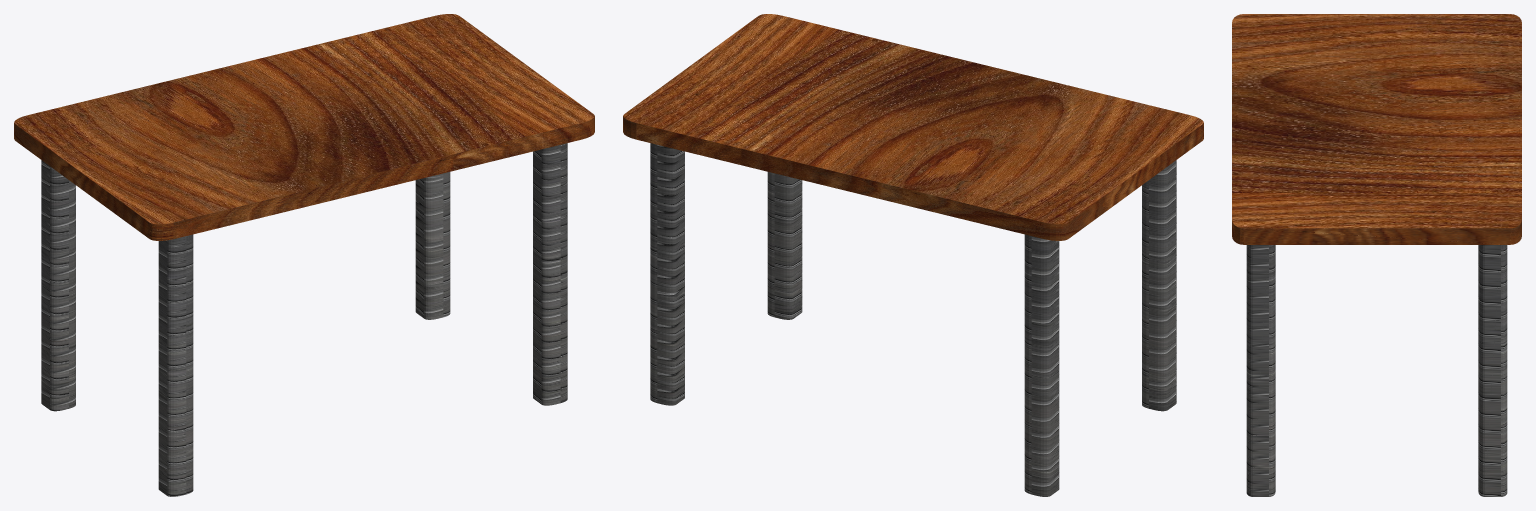
File: default_table.glb
The picture shows the model from 3 angles, left to right: view 1: azimuth 30°, elevation 25°; view 2: azimuth 150°, elevation 25°; view 3: azimuth 270°, elevation 25°; orthographic projection.
Parts seen in each view (by area): view 1: Cube, Cube.004, Cube.002, Cube.003, Cube.001; view 2: Cube, Cube.003, Cube.001, Cube.004, Cube.002; view 3: Cube, Cube.001, Cube.002.
Boxes of the visible parts, x1,y1,x2,y2 form: Cube: (14,14,594,240); Cube.004: (158,234,193,496); Cube.002: (533,143,567,405); Cube.003: (41,160,75,411); Cube.001: (415,172,450,319); Cube: (623,14,1203,240); Cube.003: (1024,234,1059,496); Cube.001: (650,143,684,405); Cube.004: (1142,160,1176,411); Cube.002: (767,172,802,319); Cube: (1232,14,1521,244); Cube.001: (1478,245,1507,496); Cube.002: (1246,245,1275,496).
Size of the model in its own units: 3.15 by 1.91 by 1.8.
Materials: 2 (2 with a texture image).
